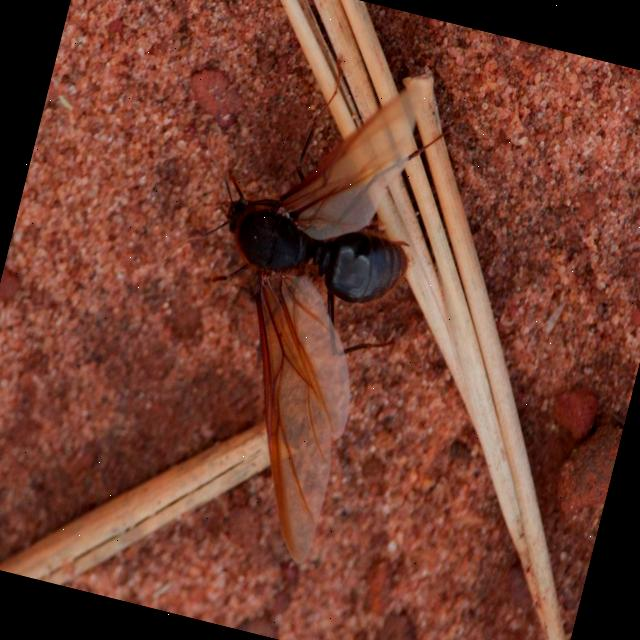Alive-Male-Alate: (100, 28, 462, 574)
